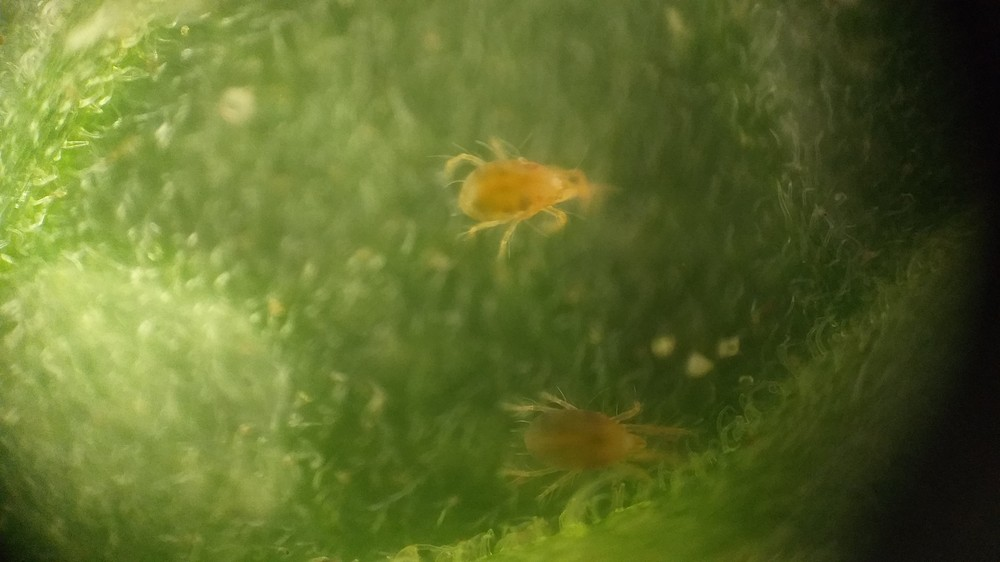Aracnido Rojo: (479, 374, 709, 511), (434, 119, 628, 267)
